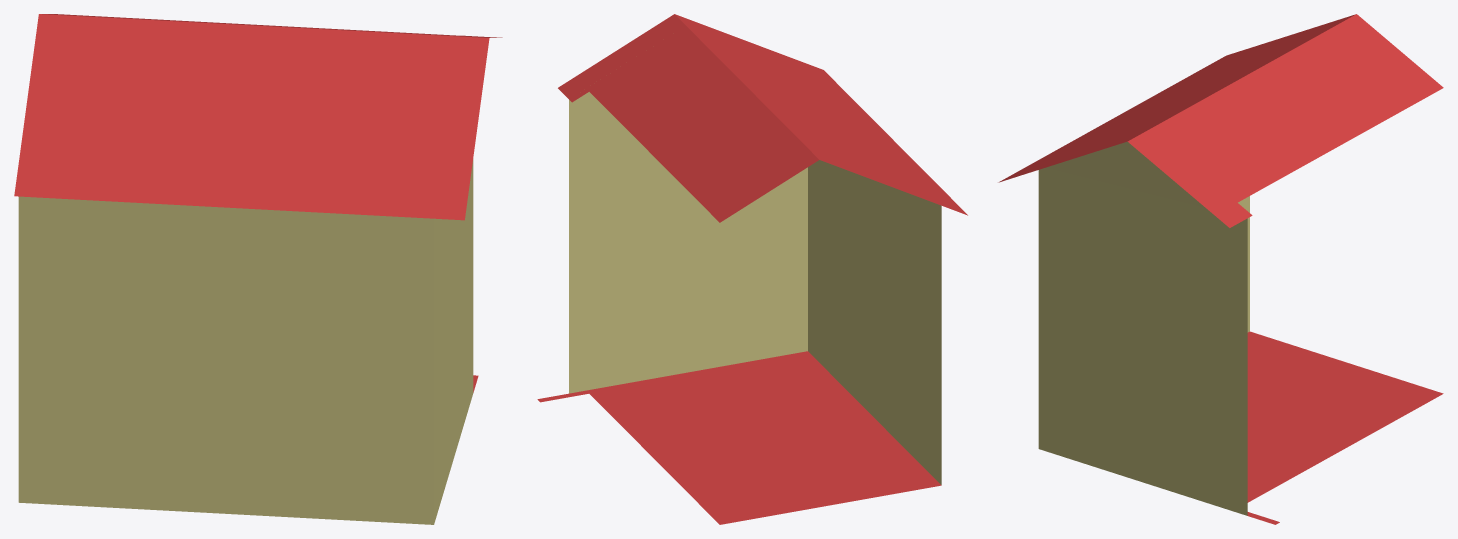
3 views of the same model, side by side, from view 1: azimuth 30°, elevation 25°; view 2: azimuth 150°, elevation 25°; view 3: azimuth 270°, elevation 25° (orthographic). The views are drawn at different scales.
Size of the model in its own units: 8.05 by 7.52 by 6.53.
